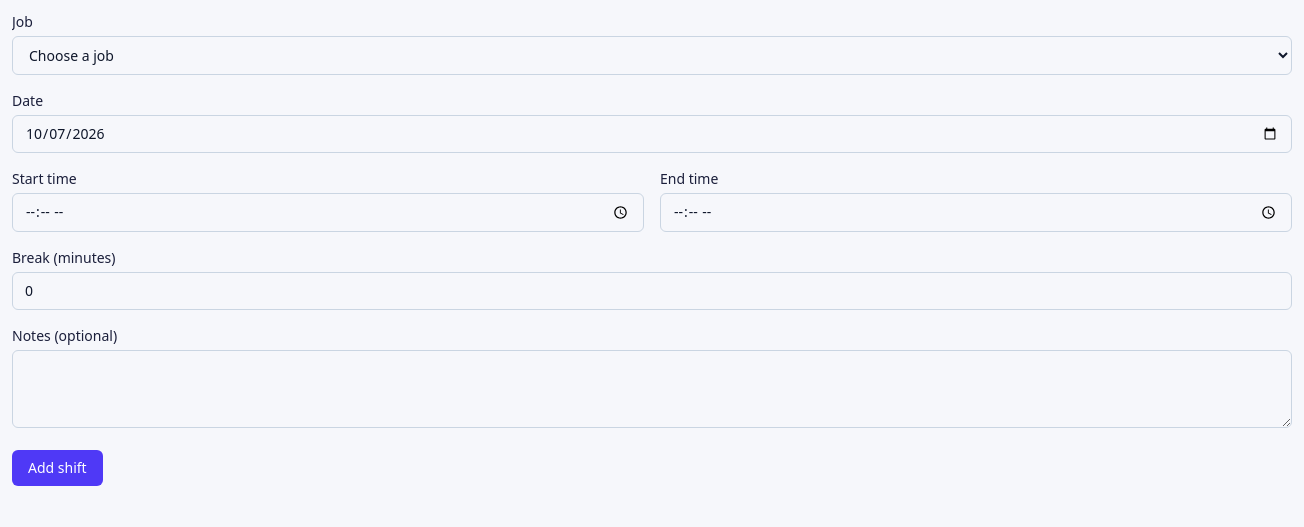
Test: ShiftForm › tells the user when a shift ends the next day
The width and height of the screenshot is (1304, 527).
Type "22:00" into the time field labelled "Start time" at x=328, y=212, box [12, 193, 644, 232]
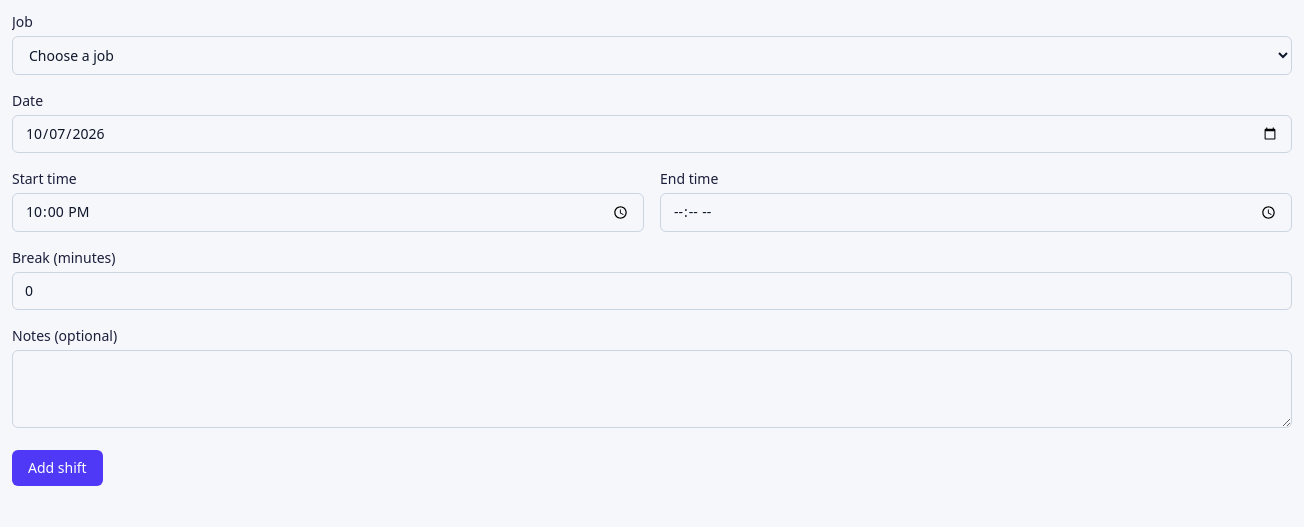
Type "06:00" into the time field labelled "End time" at x=976, y=212, box [660, 193, 1292, 232]
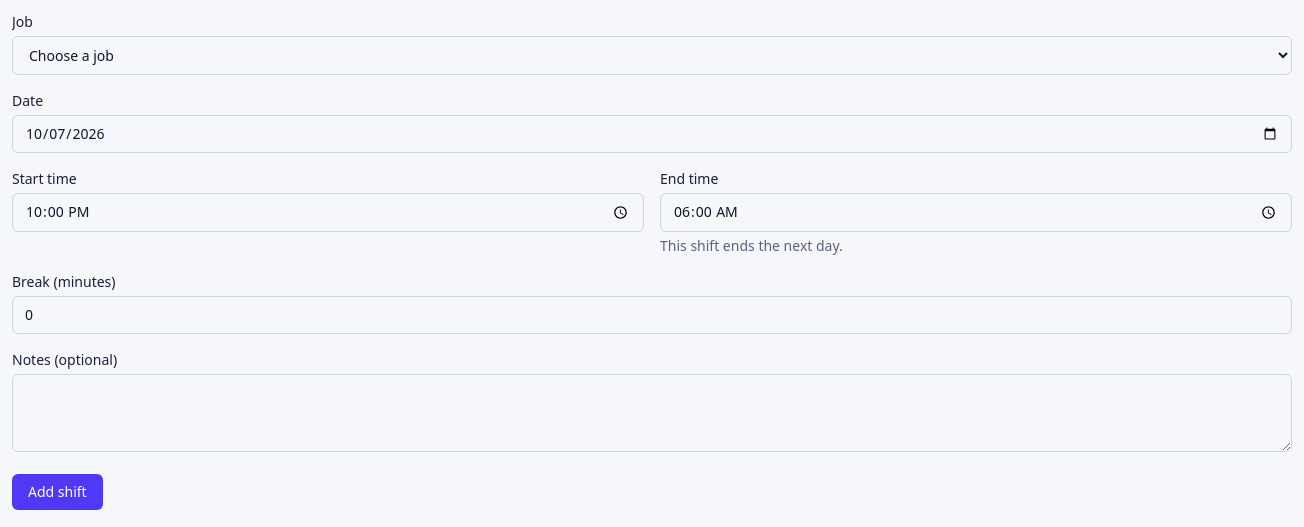
Expected: the text "This shift ends the next day." is shown, [660, 236, 843, 255]
